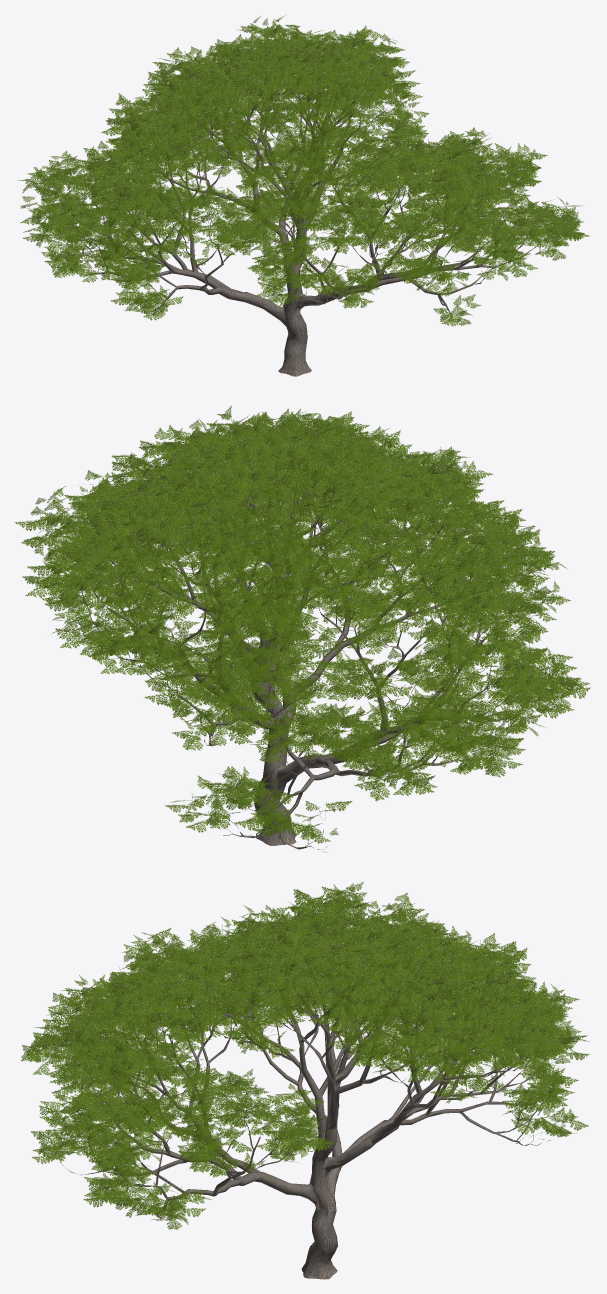
Rendered from home_tree.glb.
3 renders of one model, top to bottom at view 1: azimuth 30°, elevation 25°; view 2: azimuth 150°, elevation 25°; view 3: azimuth 270°, elevation 25°, orthographic. The views are drawn at different scales.
Visible parts, largest first — view 1: Melia_azedarach_HD_Melia bark 01_0; view 2: Melia_azedarach_HD_Melia bark 01_0; view 3: Melia_azedarach_HD_Melia bark 01_0.
Boxes of the visible parts, bbox=[...] form: Melia_azedarach_HD_Melia bark 01_0: bbox=[18, 15, 589, 376]; Melia_azedarach_HD_Melia bark 01_0: bbox=[14, 405, 590, 852]; Melia_azedarach_HD_Melia bark 01_0: bbox=[21, 882, 589, 1279].
Size of the model in its own units: 10.4 by 7.17 by 10.08.
Materials: 2 (2 with a texture image).
